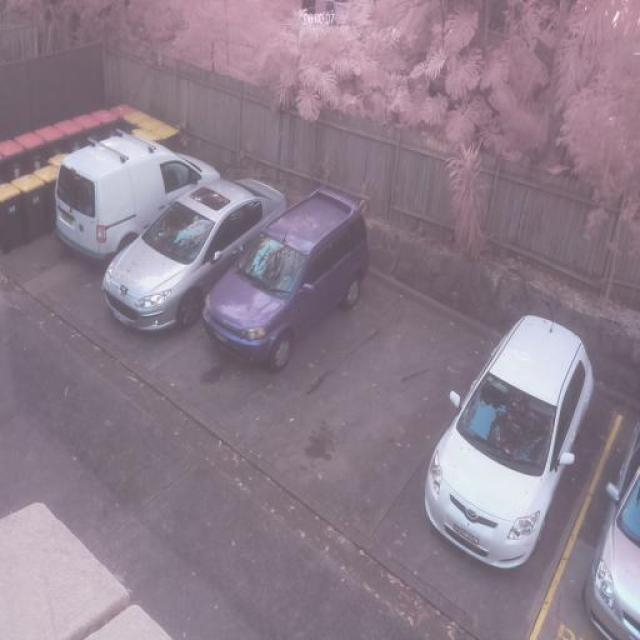Legalparking: (40, 75, 359, 409), (382, 284, 640, 640)
